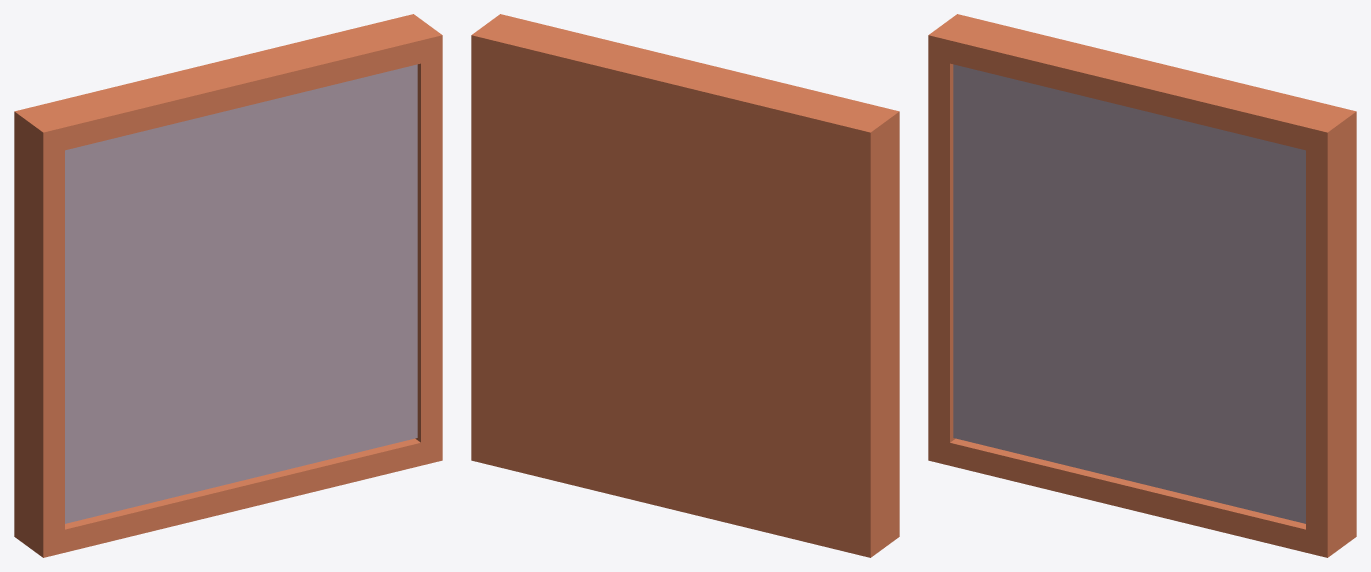
Rendered from PHOTO.fbx.
3 renders of one model, left to right at view 1: azimuth 30°, elevation 25°; view 2: azimuth 150°, elevation 25°; view 3: azimuth 330°, elevation 25°, orthographic.
Parts seen in each view (by area): view 1: PHOTO, PHOTO FRAME; view 2: PHOTO FRAME; view 3: PHOTO, PHOTO FRAME.
Part boxes in pixels (box(x1,y1,x2,y2)): PHOTO: box(65, 64, 417, 523); PHOTO FRAME: box(14, 14, 442, 557); PHOTO FRAME: box(471, 14, 899, 557); PHOTO: box(953, 64, 1305, 523); PHOTO FRAME: box(928, 14, 1356, 557).
Bounding box in the file's own units: 190 × 193 × 23.82.
